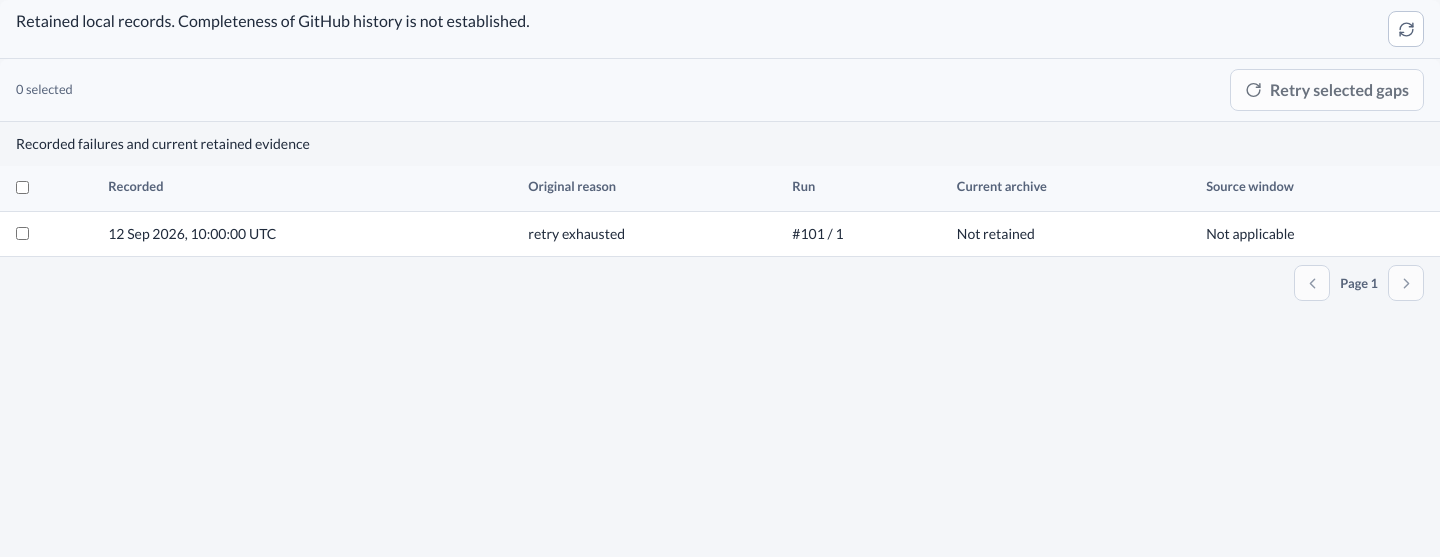
Test case: first gap HTTP 403/unavailable remains uncertain
Click the checkbox named "Select retryable gaps on this page". click: (22, 188)
box: [16,181,29,194]
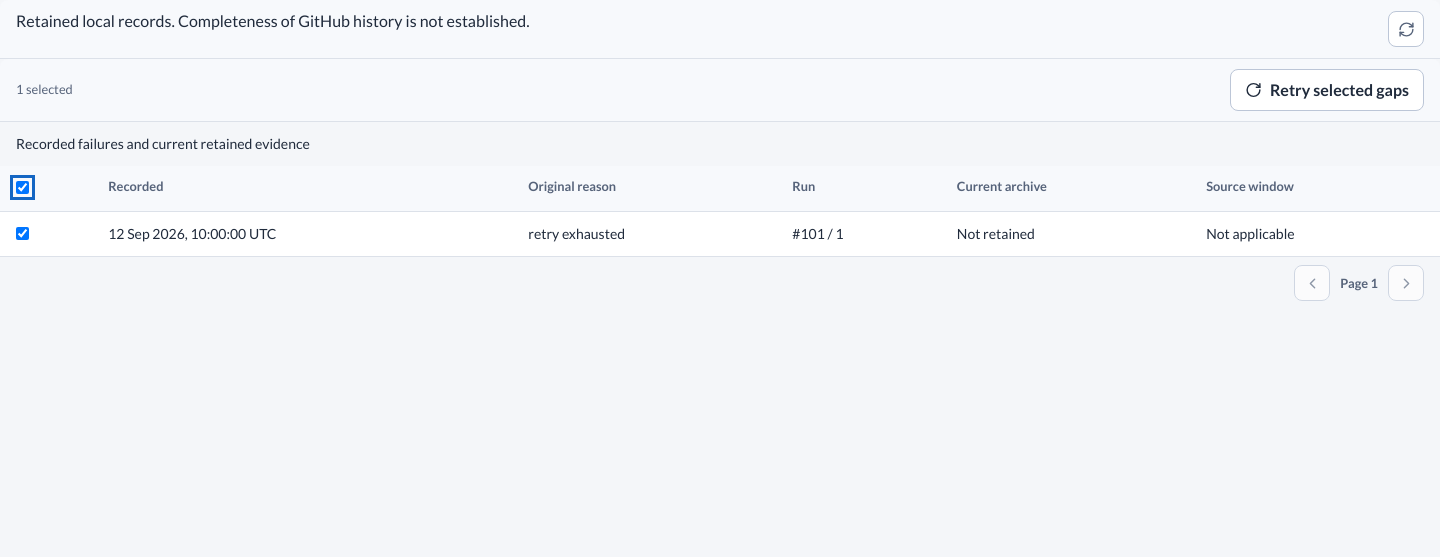
Click the button "Retry selected gaps". click: (1327, 90)
box: [1230,69,1424,111]
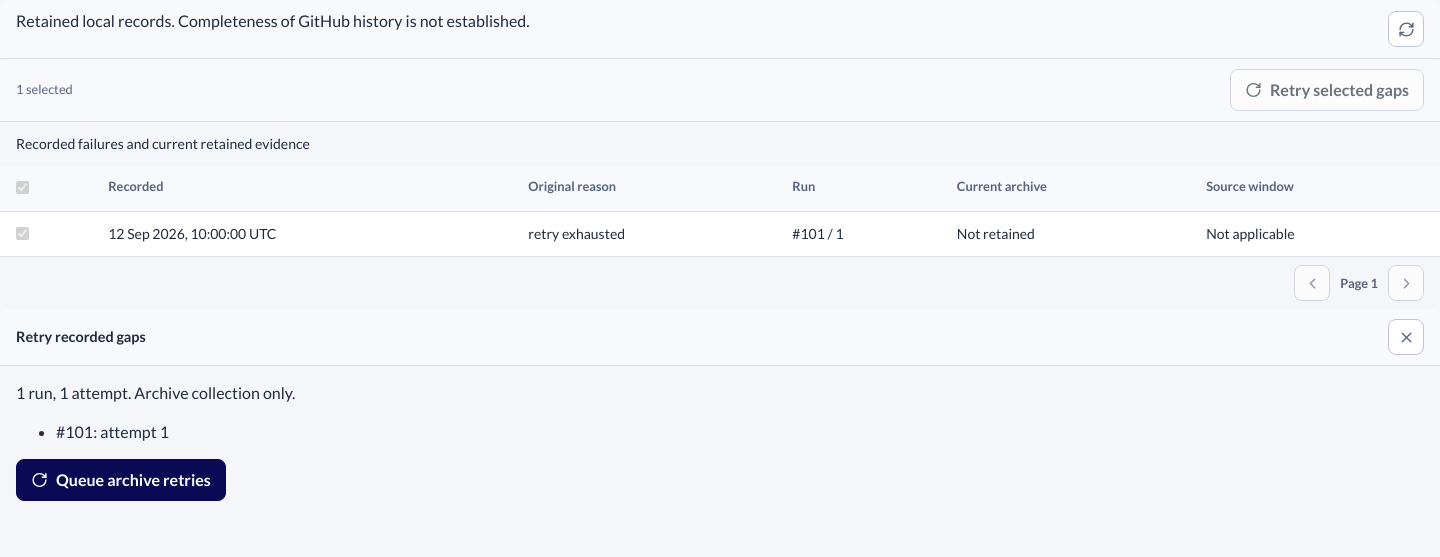
Click the button "Queue archive retries". click: (121, 480)
box: [16,459,226,501]
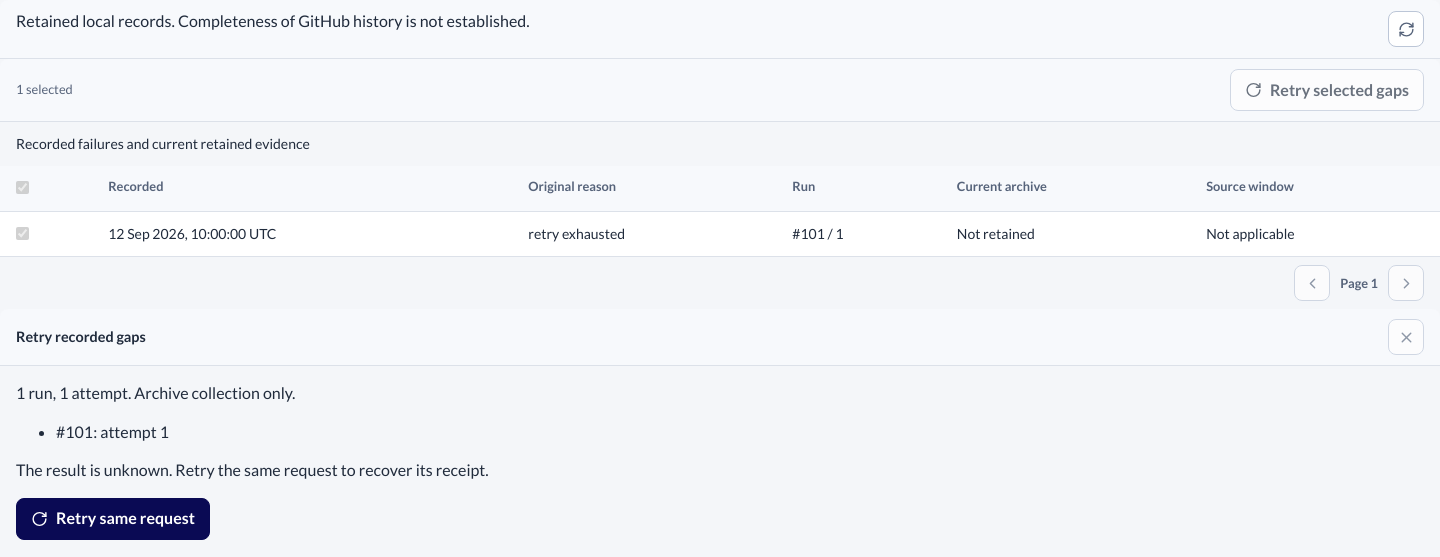
Check: the text "The result is unknown. Retry the same request to recover its receipt." is shown, box [16,460,489,479]
Check: the button named "Close retry selection" is disabled, box [1388,320,1424,356]
